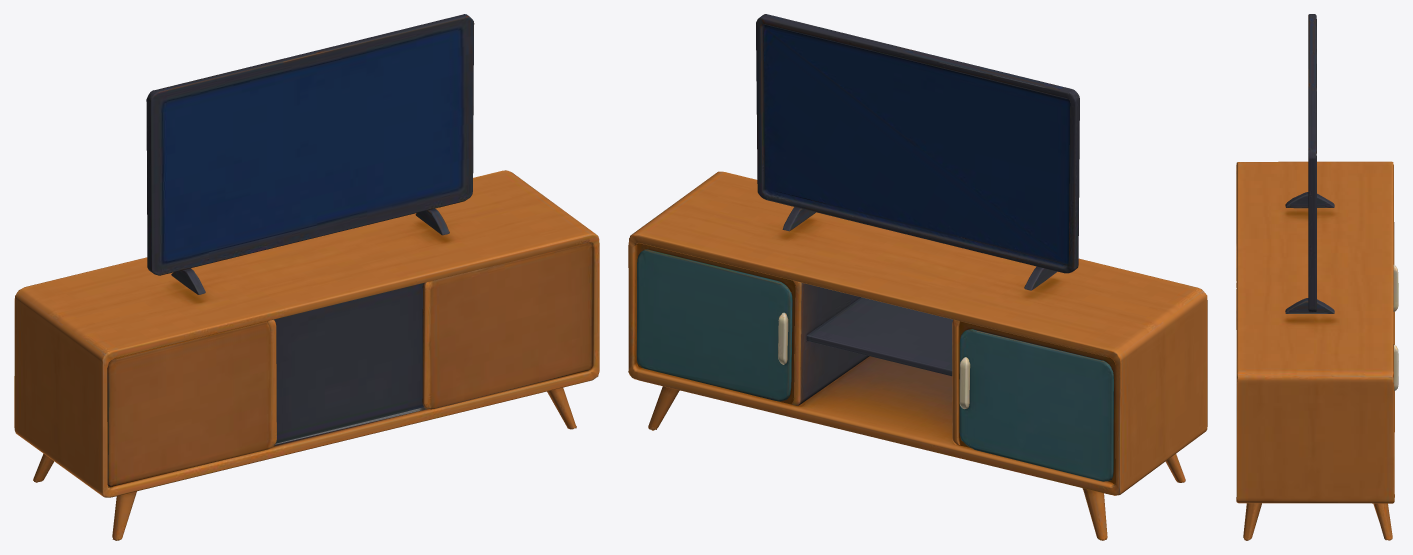
File: apartment-tv-stand.glb
The picture shows the model from 3 angles, left to right: view 1: azimuth 30°, elevation 25°; view 2: azimuth 150°, elevation 25°; view 3: azimuth 270°, elevation 25°; orthographic projection. The views are drawn at different scales.
Visible parts, largest first — view 1: apartment-tv-stand; view 2: apartment-tv-stand; view 3: apartment-tv-stand.
Boxes of the visible parts, x1,y1,x2,y2 form: apartment-tv-stand: (14,14,599,540); apartment-tv-stand: (628,14,1207,540); apartment-tv-stand: (1236,14,1398,540).
Bounding box in the file's own units: 1.4 × 1.09 × 0.4451.
1 material, 1 textured.
